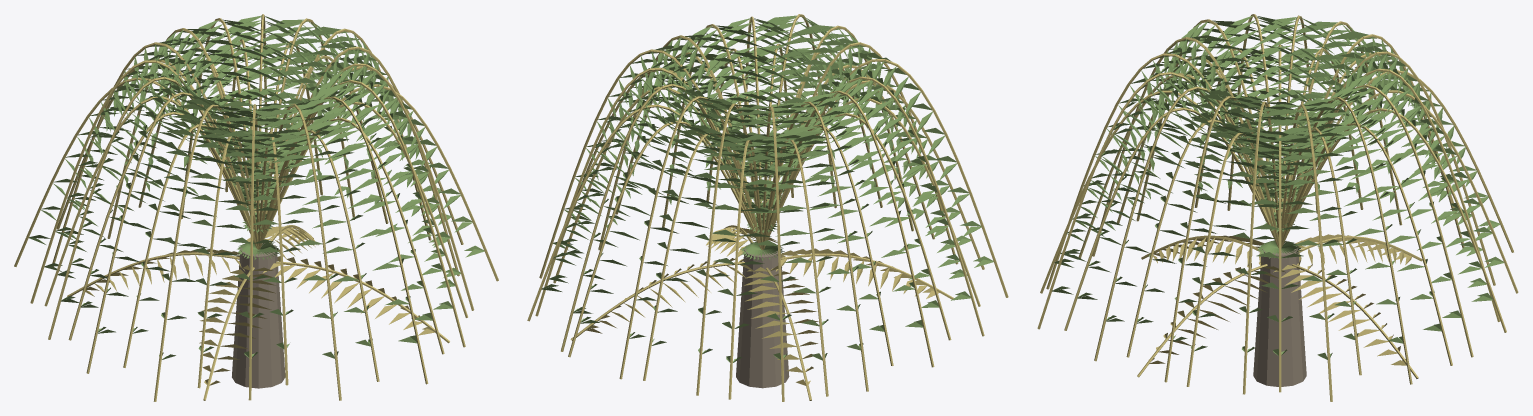
Rendered from dining-cycad.glb.
3 renders of one model, left to right at view 1: azimuth 30°, elevation 25°; view 2: azimuth 150°, elevation 25°; view 3: azimuth 270°, elevation 25°, orthographic.
Visible parts, largest first — view 1: dining-cycad; view 2: dining-cycad; view 3: dining-cycad.
Part boxes in pixels (<box>): dining-cycad: <box>14,14,498,401</box>; dining-cycad: <box>527,14,1008,401</box>; dining-cycad: <box>1037,14,1518,401</box>.
Bounding box in the file's own units: 3.29 × 2.46 × 3.41.
